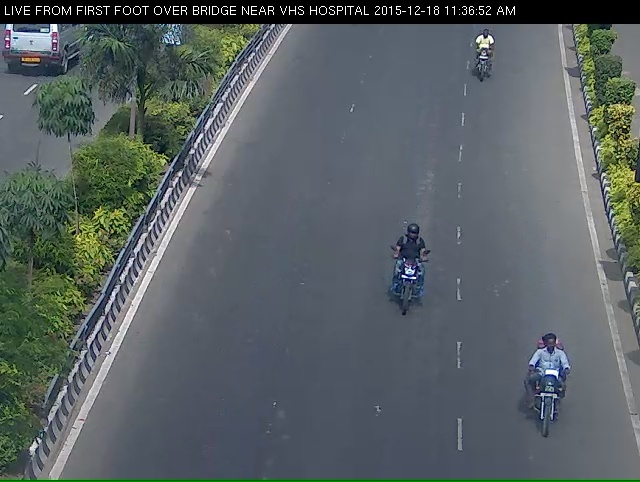Person: (505, 333, 587, 469), (374, 236, 438, 359), (466, 39, 517, 104)
